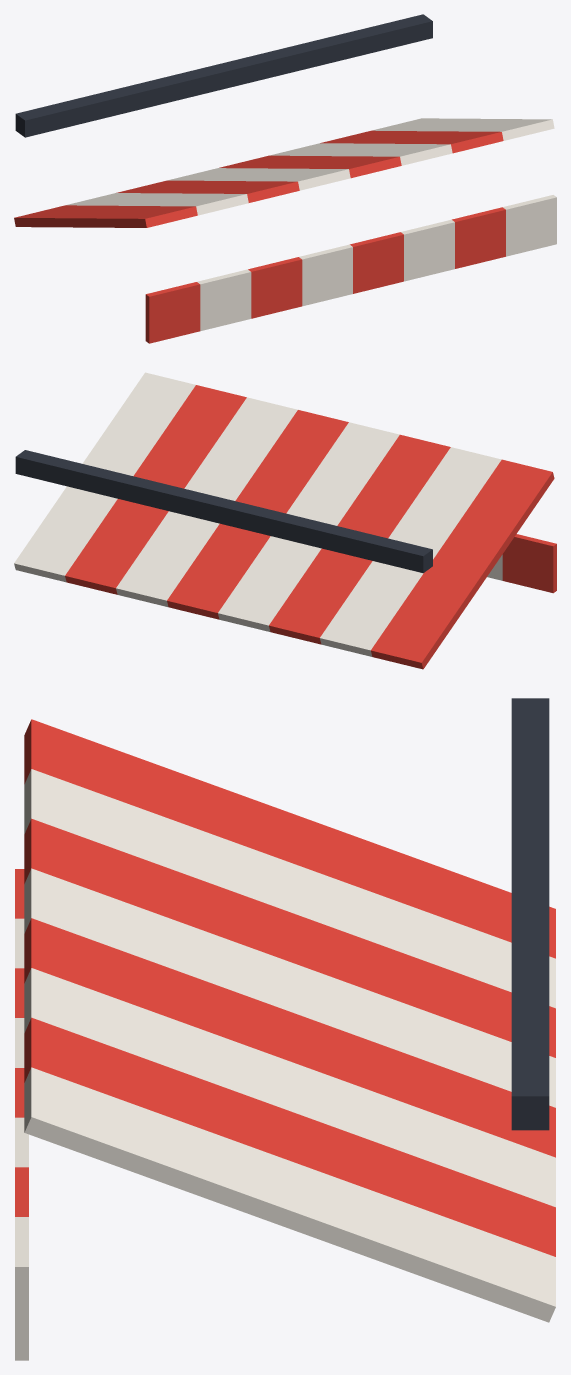
Rendered from awning.glb.
3 views of the same model, one above another, from view 1: azimuth 30°, elevation 25°; view 2: azimuth 150°, elevation 25°; view 3: azimuth 270°, elevation 25° (orthographic). The views are drawn at different scales.
Visible parts, largest first — view 1: awning; view 2: awning; view 3: awning.
Boxes of the visible parts, box(x1,y1,x2,y2) form: awning: box(14, 14, 556, 343); awning: box(14, 372, 556, 669); awning: box(15, 698, 555, 1360).
Size of the model in its own units: 2 by 0.62 by 1.15.
Materials: 1 (1 with a texture image).
